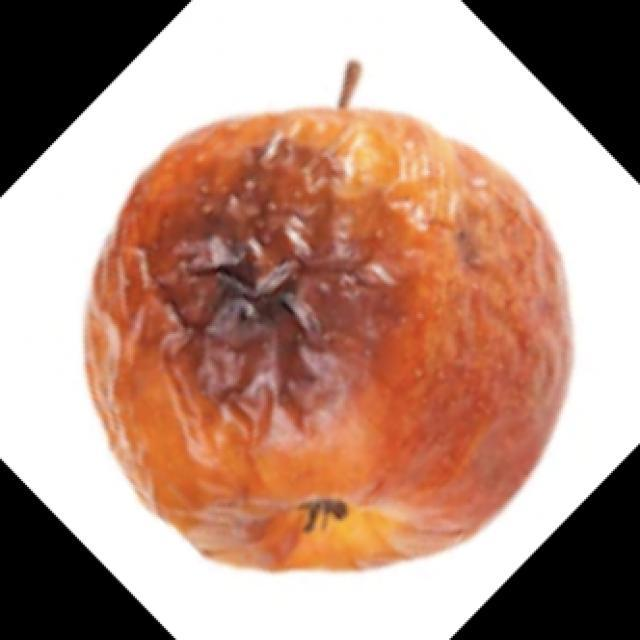Rotten: (118, 98, 577, 577)
